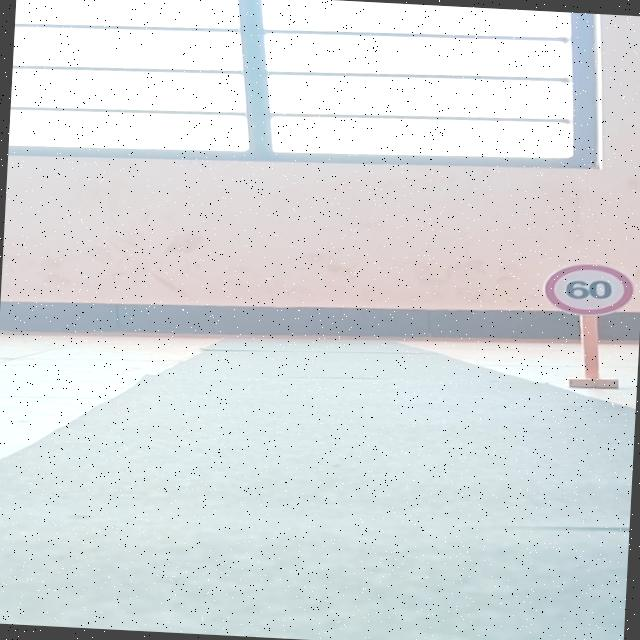Speed60: (544, 259, 636, 318)
